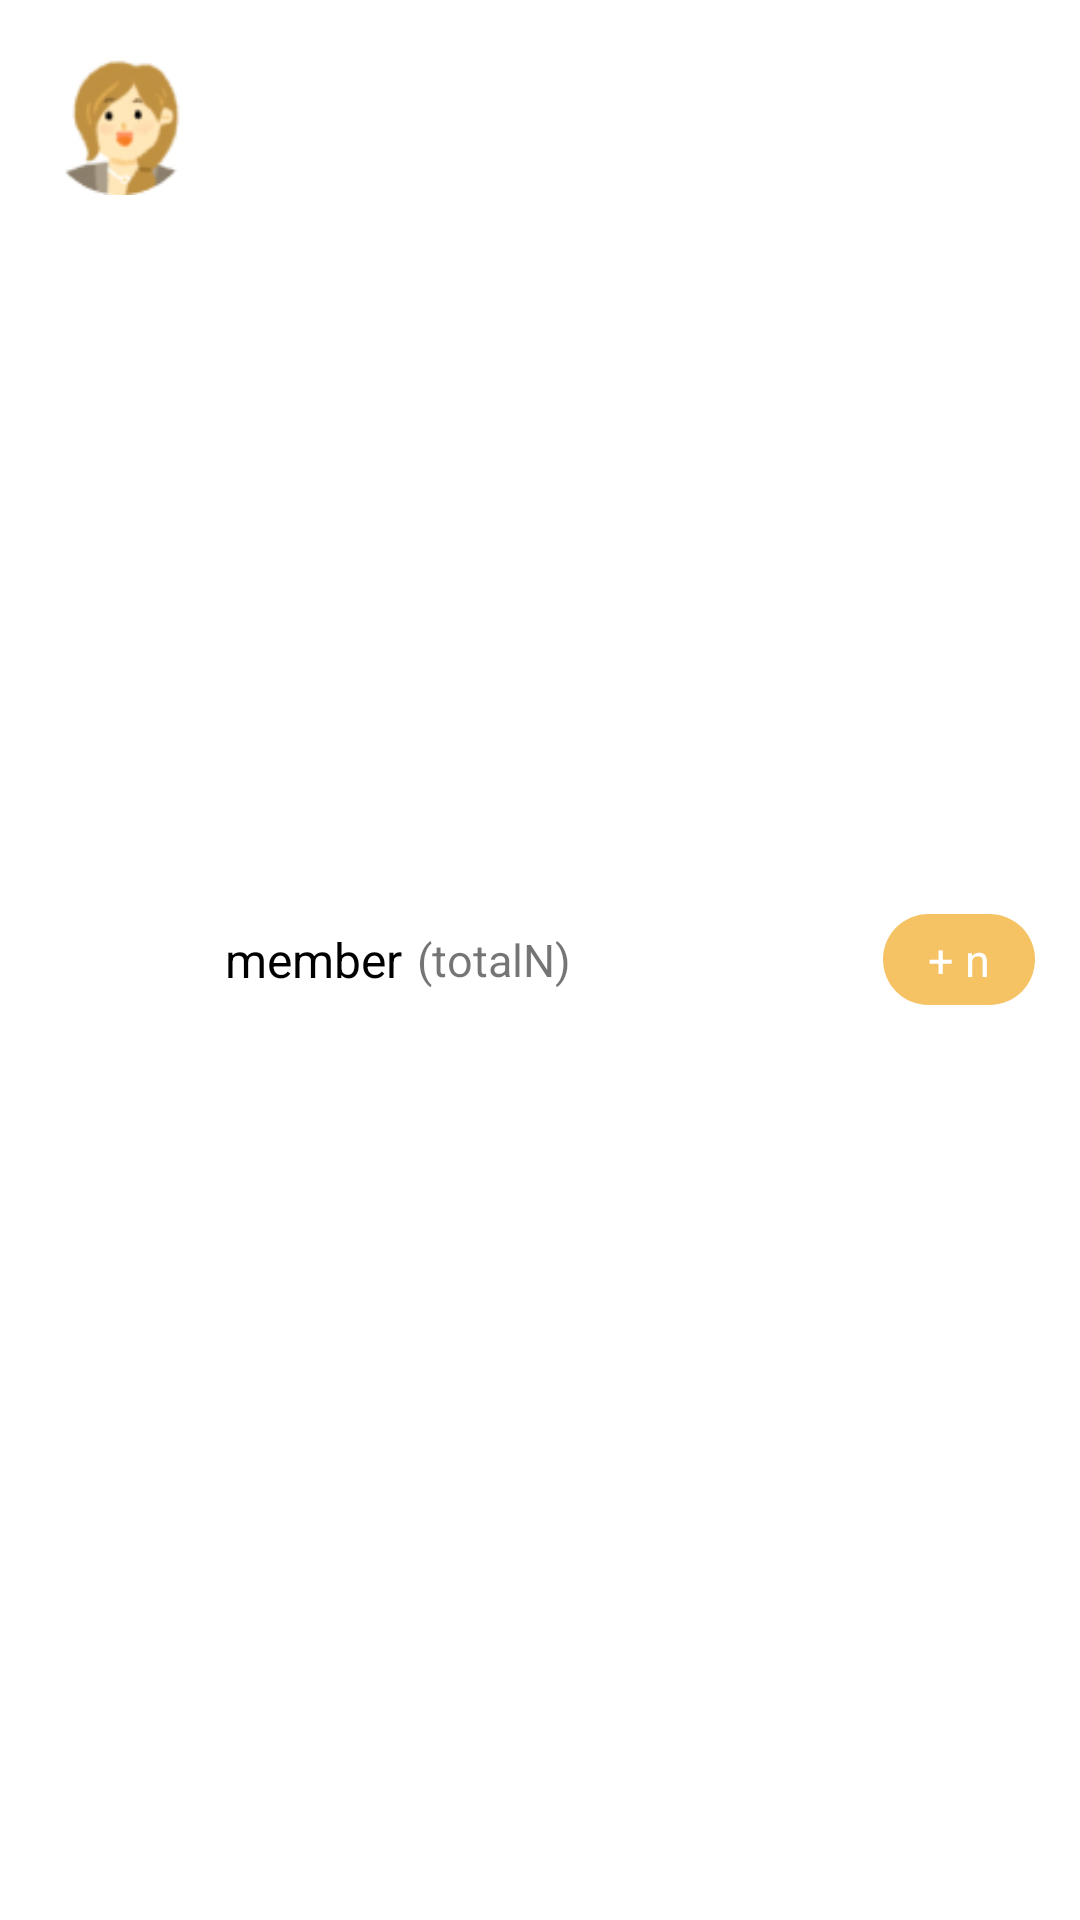

Icons on this 1080 × 1920 Android screen, each with its box as (x1, y1, x2, y2):
mom: (66, 61, 179, 195)
